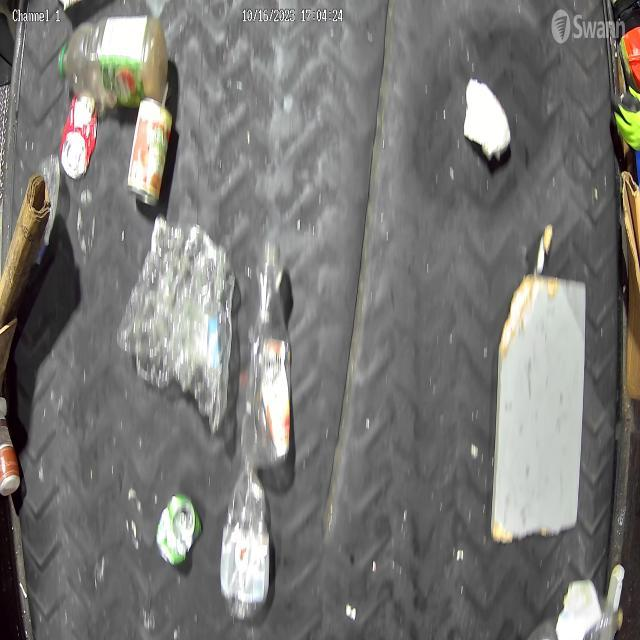plastic_bottle: (244, 231, 296, 453), (224, 461, 272, 619)
